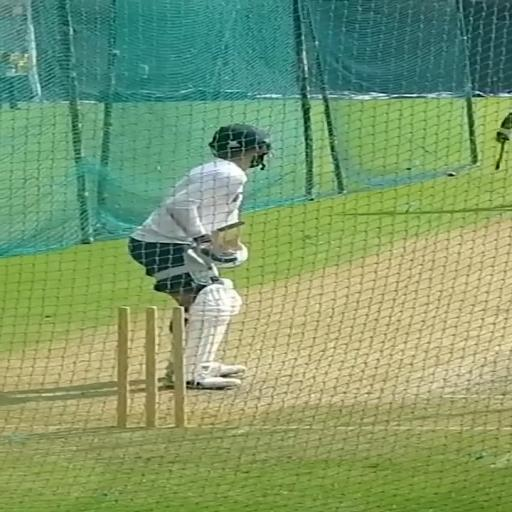Cricket bat: (214, 221, 240, 252)
